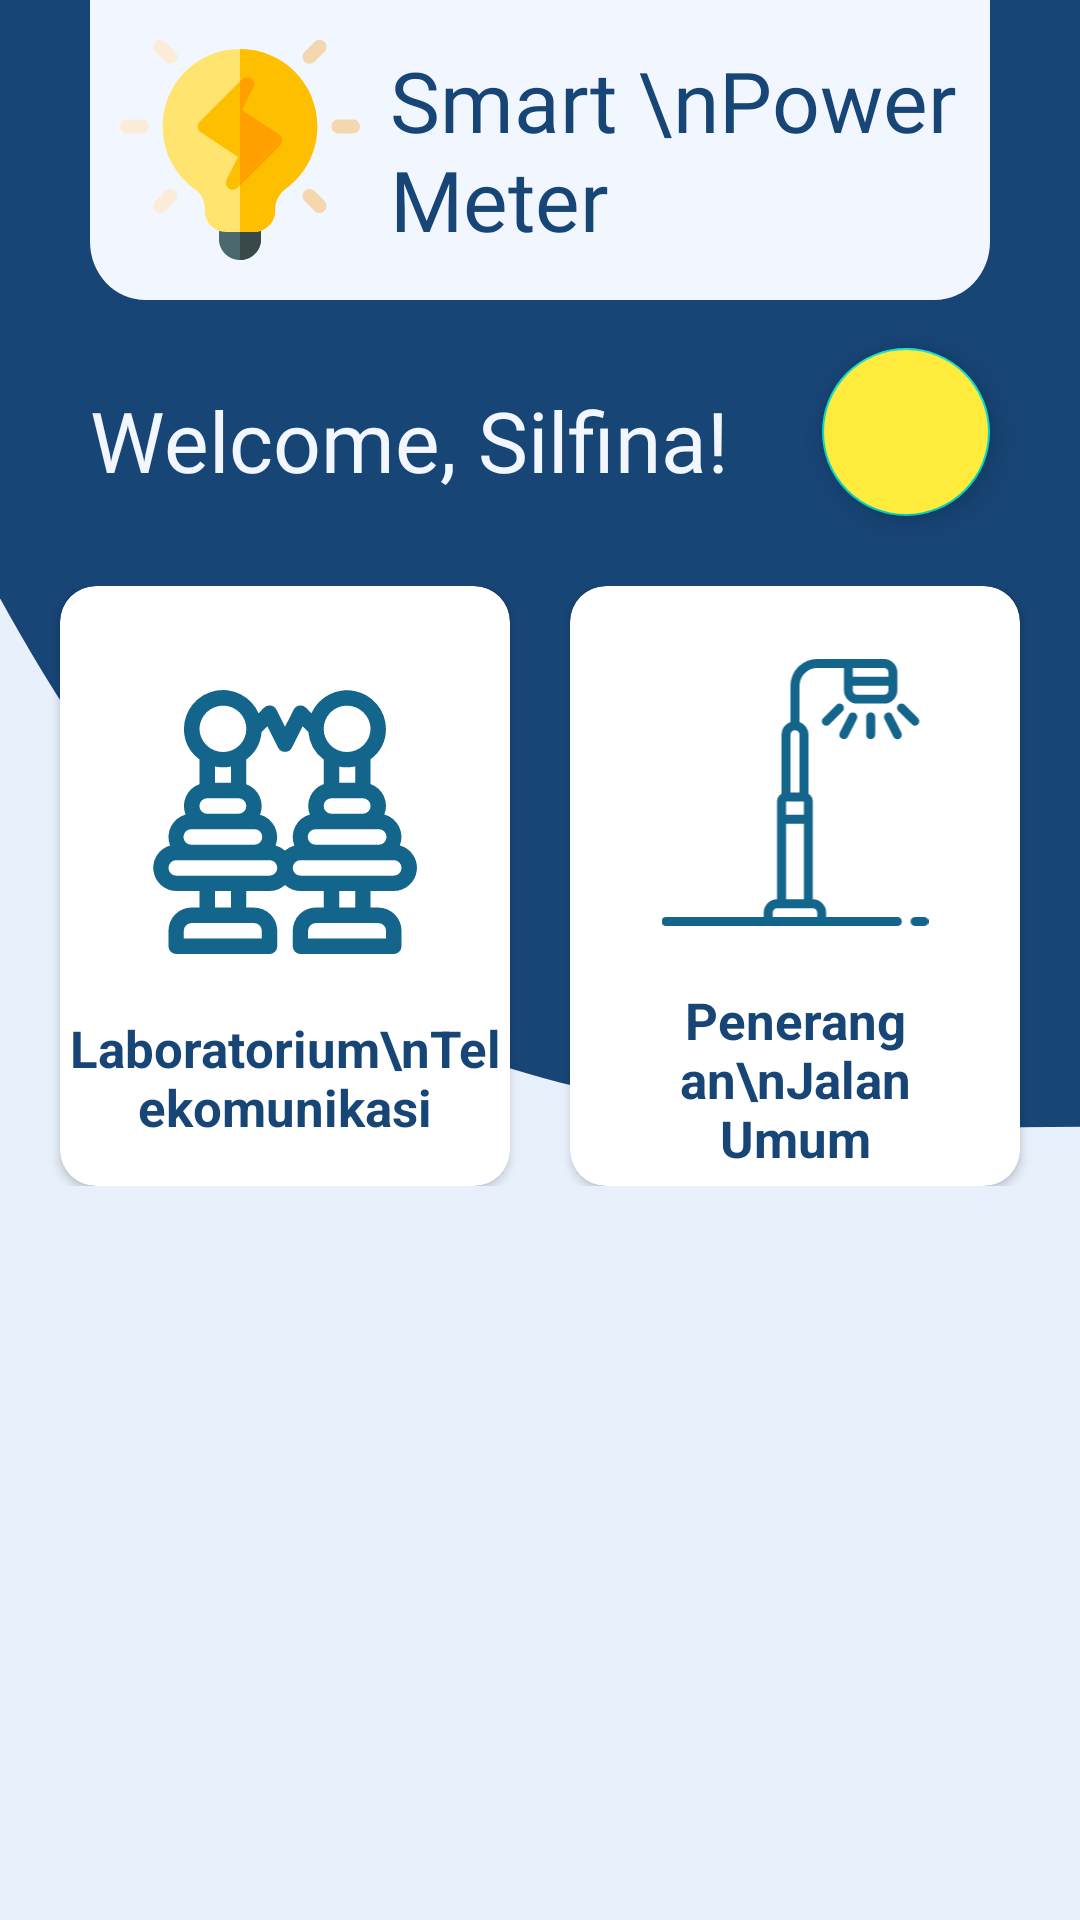

Icon click points for this 1080x1920 phone screenshot, format (x,y):
idea: (240,150)
